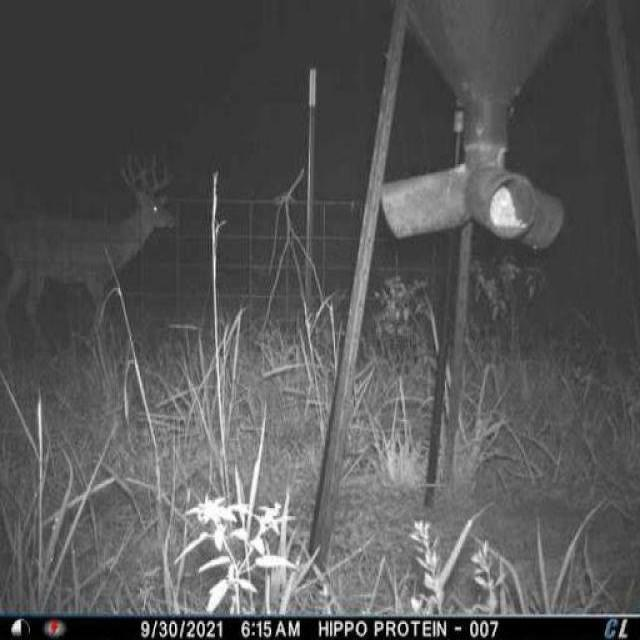deer: (5, 137, 185, 354)
